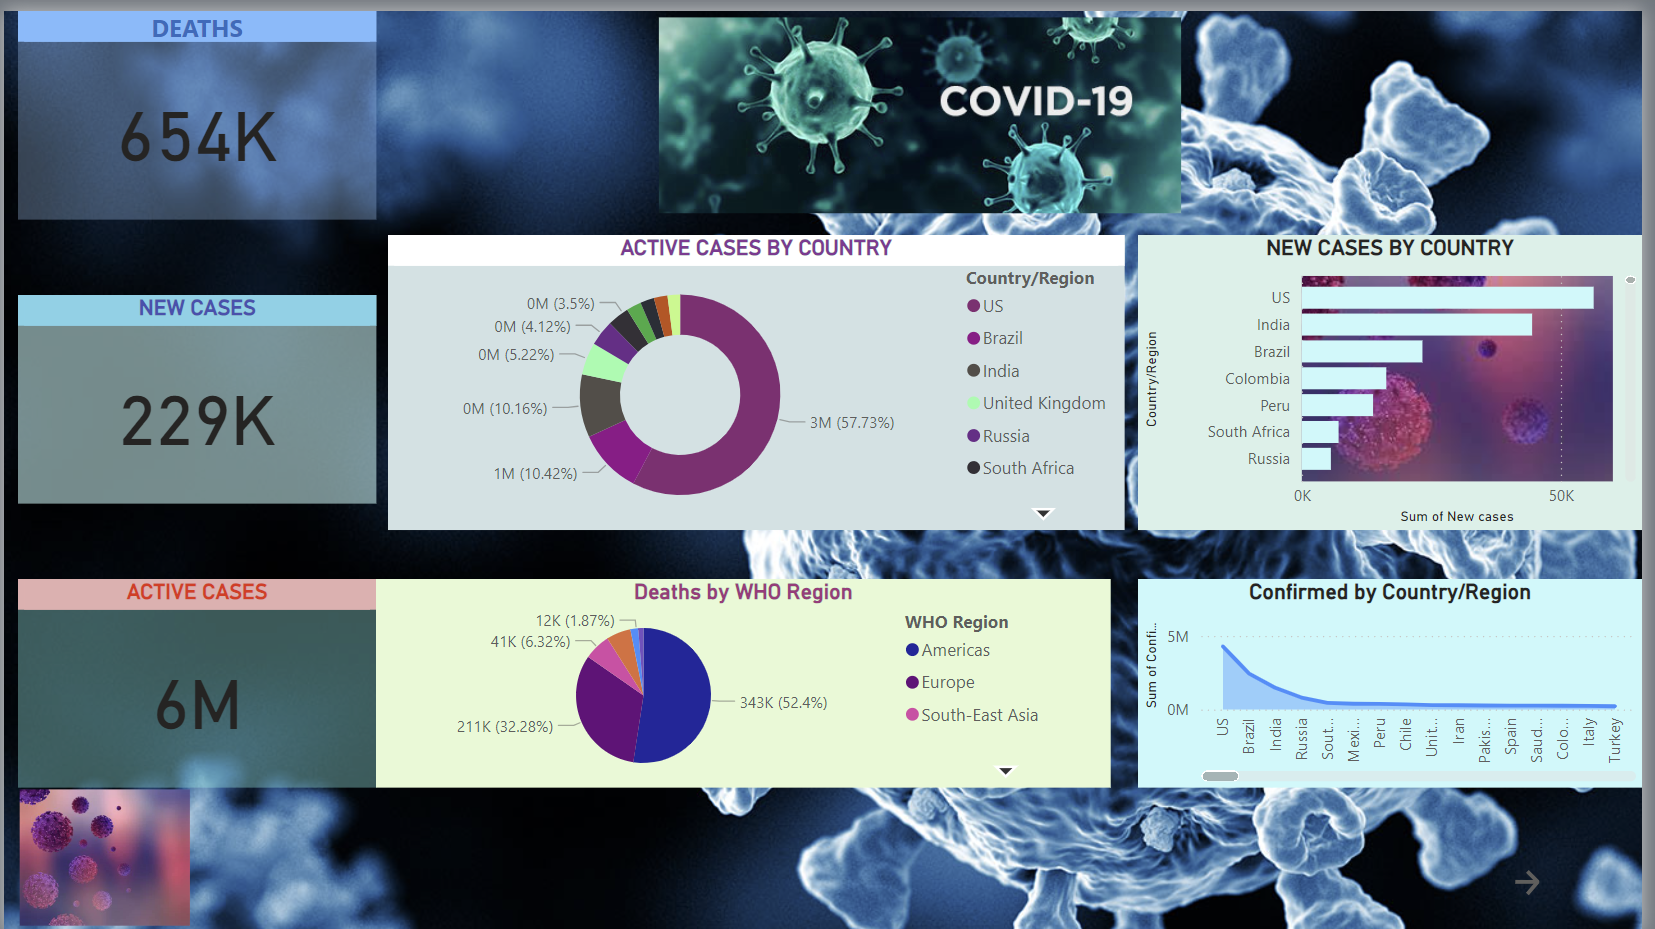

The page's visual inventory and layout, read from the dashboard file:
{"tool":"powerbi","page":{"name":"Page 1","canvas":[1280,720],"ordinal":0},"visuals":[{"type":"card","title":"DEATHS","fields":{"Values":["Sum(country_wise_latest.Deaths)"]},"box":[10.6,0,279.8,163.1],"z":0},{"type":"card","title":"NEW CASES","fields":{"Values":["Sum(country_wise_latest.New cases)"]},"box":[11,221.5,280,163],"z":1000},{"type":"card","title":"ACTIVE CASES","fields":{"Values":["Sum(country_wise_latest.Active)"]},"box":[11,443.5,280,163],"z":2000},{"type":"donutChart","title":"ACTIVE CASES BY COUNTRY","fields":{"Category":["country_wise_latest.Country/Region"],"Y":["Sum(country_wise_latest.Active)"]},"box":[299.7,175,575.5,230.7],"z":3000},{"type":"clusteredBarChart","title":"NEW CASES BY COUNTRY","fields":{"Category":["country_wise_latest.Country/Region"],"Y":["Sum(country_wise_latest.New cases)"]},"box":[885.7,175,393.8,230.7],"z":4000},{"type":"pieChart","title":"Deaths by WHO Region","fields":{"Category":["country_wise_latest.WHO Region"],"Y":["Sum(country_wise_latest.Deaths)"]},"box":[291,444,574,163],"z":5000},{"type":"areaChart","title":"Confirmed by Country/Region","fields":{"Y":["Sum(country_wise_latest.Confirmed)"],"Category":["country_wise_latest.Country/Region"]},"box":[886,444,394,163],"z":6000},{"type":"image","box":[6.6,603.3,144.5,116.7],"z":7000},{"type":"image","box":[428.3,0,575.5,163.1],"z":7001},{"type":"actionButton","box":[1160.2,661.7,99.4,39.8],"z":7002}]}

Visuals, with their boxes in screenshot pixels (x1, y1, x2, y2), scaled from the page's 1280x720 canvas onto the 1655x929 screenshot:
"DEATHS" card: {"left": 14, "top": 0, "right": 375, "bottom": 210}
"NEW CASES" card: {"left": 14, "top": 286, "right": 376, "bottom": 496}
"ACTIVE CASES" card: {"left": 14, "top": 572, "right": 376, "bottom": 783}
"ACTIVE CASES BY COUNTRY" donutChart: {"left": 388, "top": 226, "right": 1132, "bottom": 523}
"NEW CASES BY COUNTRY" clusteredBarChart: {"left": 1145, "top": 226, "right": 1654, "bottom": 523}
"Deaths by WHO Region" pieChart: {"left": 376, "top": 573, "right": 1118, "bottom": 783}
"Confirmed by Country/Region" areaChart: {"left": 1146, "top": 573, "right": 1654, "bottom": 783}
image: {"left": 9, "top": 778, "right": 195, "bottom": 928}
image: {"left": 554, "top": 0, "right": 1298, "bottom": 210}
actionButton: {"left": 1500, "top": 854, "right": 1629, "bottom": 905}
